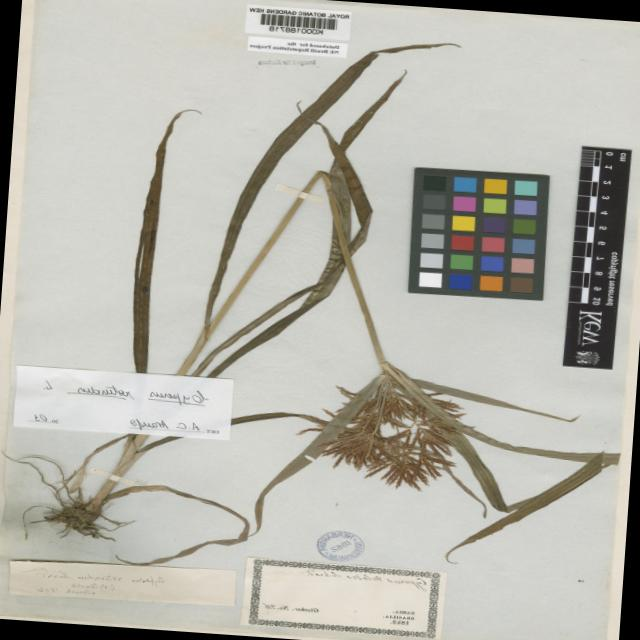cyperus: (297, 373, 482, 492)
